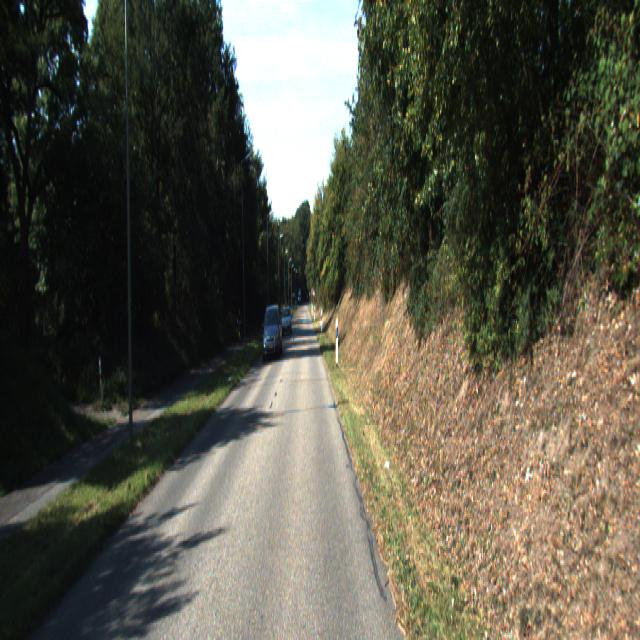Car: (262, 304, 282, 362), (280, 305, 292, 335)
